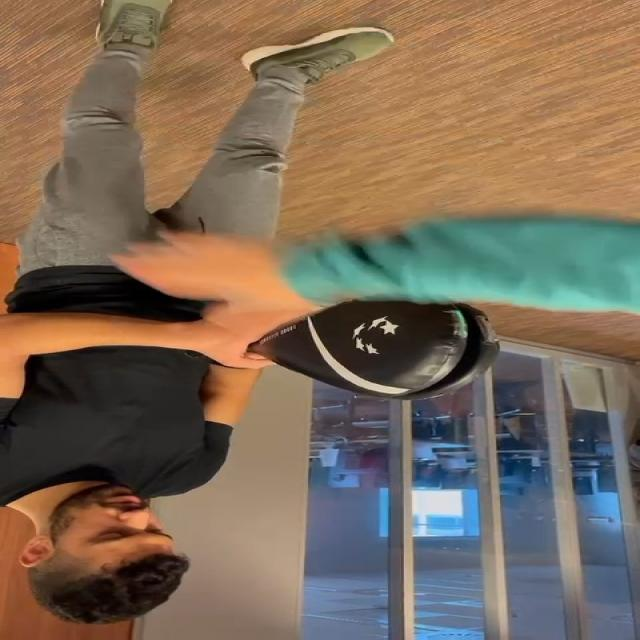paddle: (259, 295, 490, 394)
trigger: (442, 308, 470, 339)
